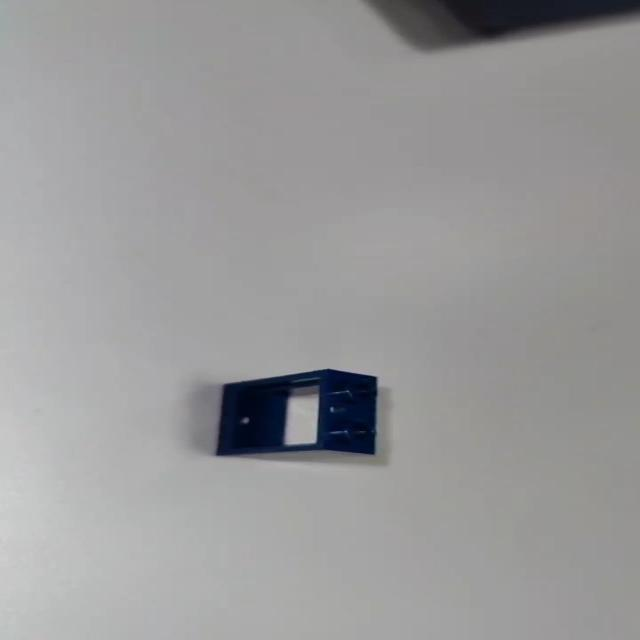W2x1x2: (216, 368, 382, 458)
